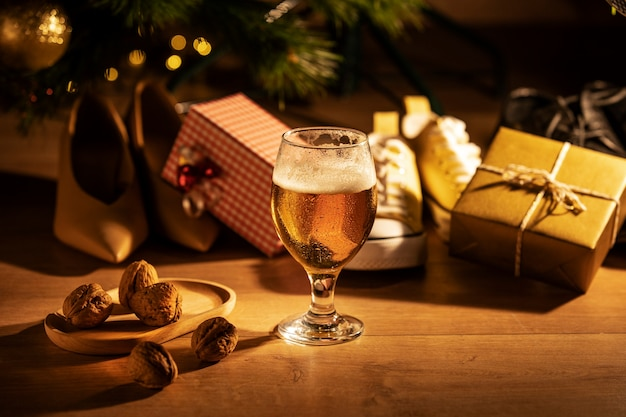alcohol: (268, 125, 380, 348)
